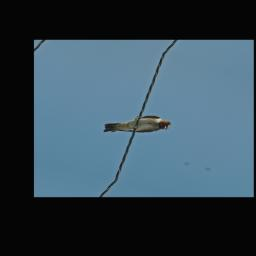Swallow: (99, 105, 175, 147)
